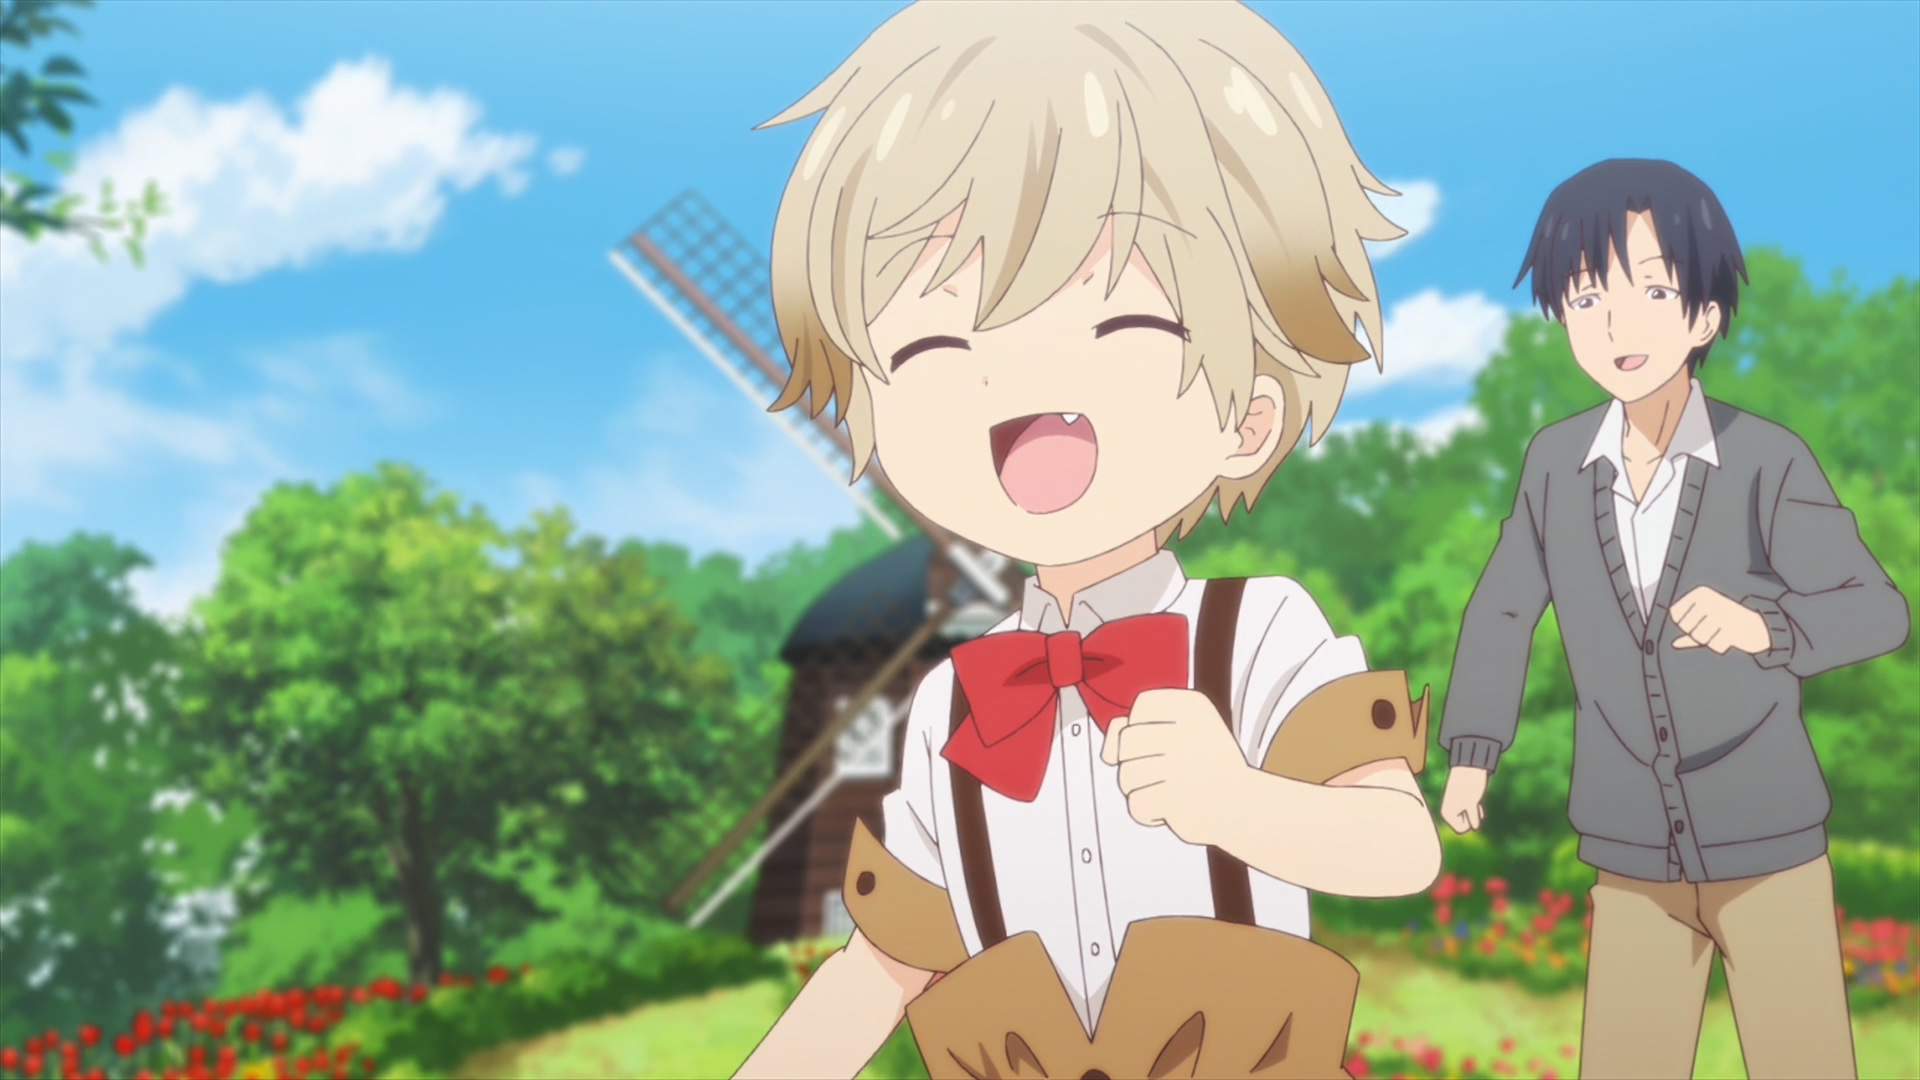其他: (731, 1, 1443, 1080), (1437, 158, 1911, 1080)
